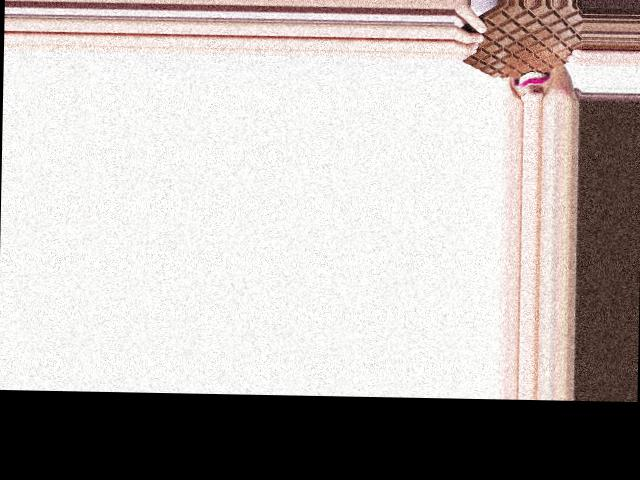chocolate: (452, 3, 582, 82)
